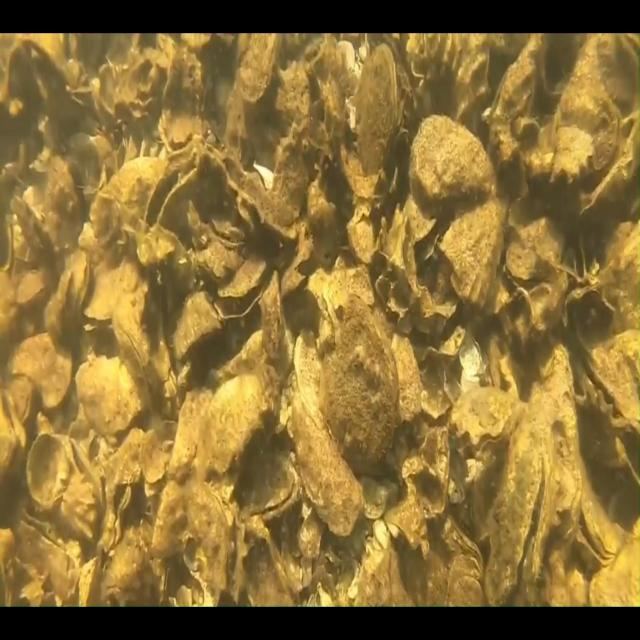Oyster- Indeterminate: (0, 324, 90, 414), (100, 487, 158, 606), (52, 267, 74, 309)
Oyster-Closed: (305, 261, 407, 472), (172, 362, 284, 488), (426, 188, 516, 309), (405, 112, 495, 201), (67, 348, 149, 442), (355, 42, 411, 173), (151, 287, 230, 362), (115, 47, 169, 124), (109, 286, 151, 371)
Oyster-Open: (475, 399, 571, 612), (128, 127, 213, 227), (205, 252, 282, 330), (234, 446, 302, 523), (26, 433, 70, 511), (63, 246, 91, 305), (206, 212, 248, 250)
